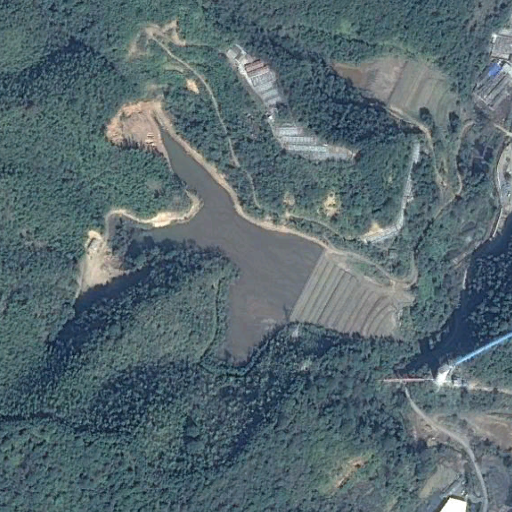tp: (102, 105, 414, 364)
